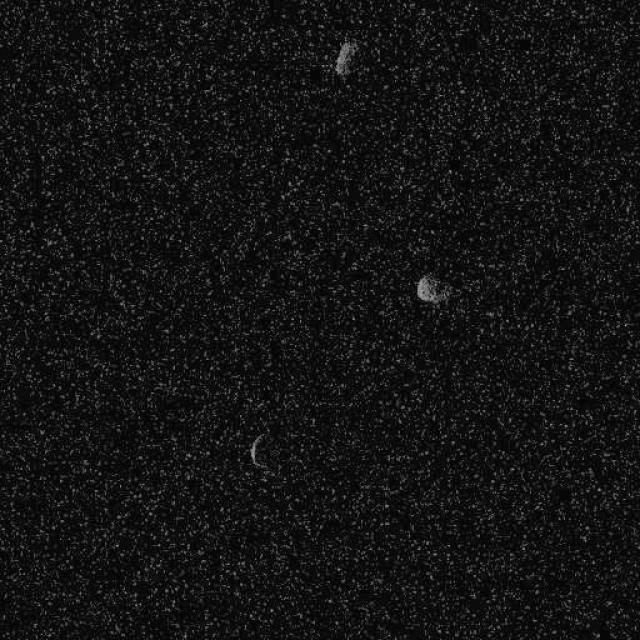D2: (415, 273, 451, 305), (332, 39, 358, 76), (248, 431, 270, 471)
